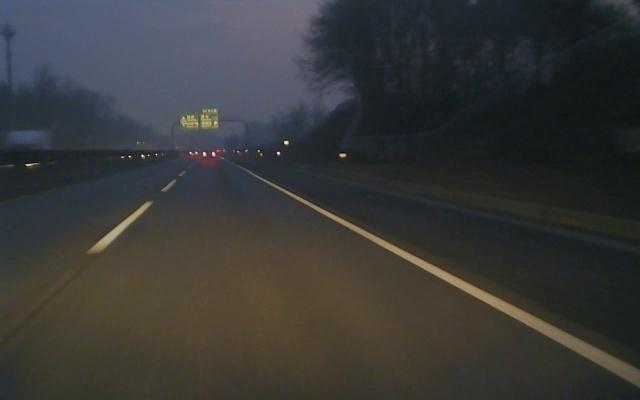lane: (242, 168, 640, 386), (84, 169, 189, 254)
